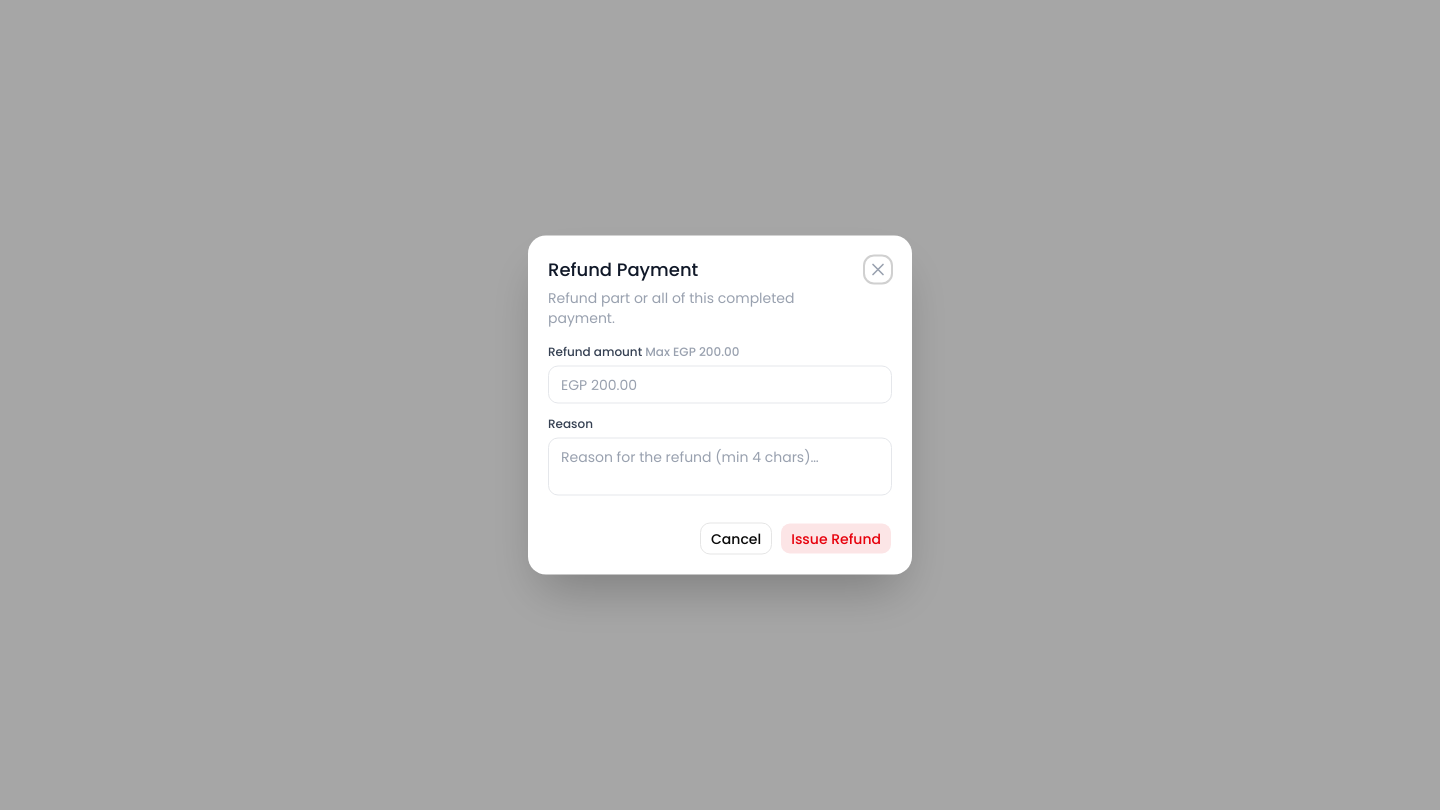
Test case: RefundDrawer › blocks submit and shows an error when the reason is too short
The width and height of the screenshot is (1440, 810).
In the text box with placeholder "Reason for the refund (min 4 chars)…": (720, 466) [548, 438, 892, 496], type "no"
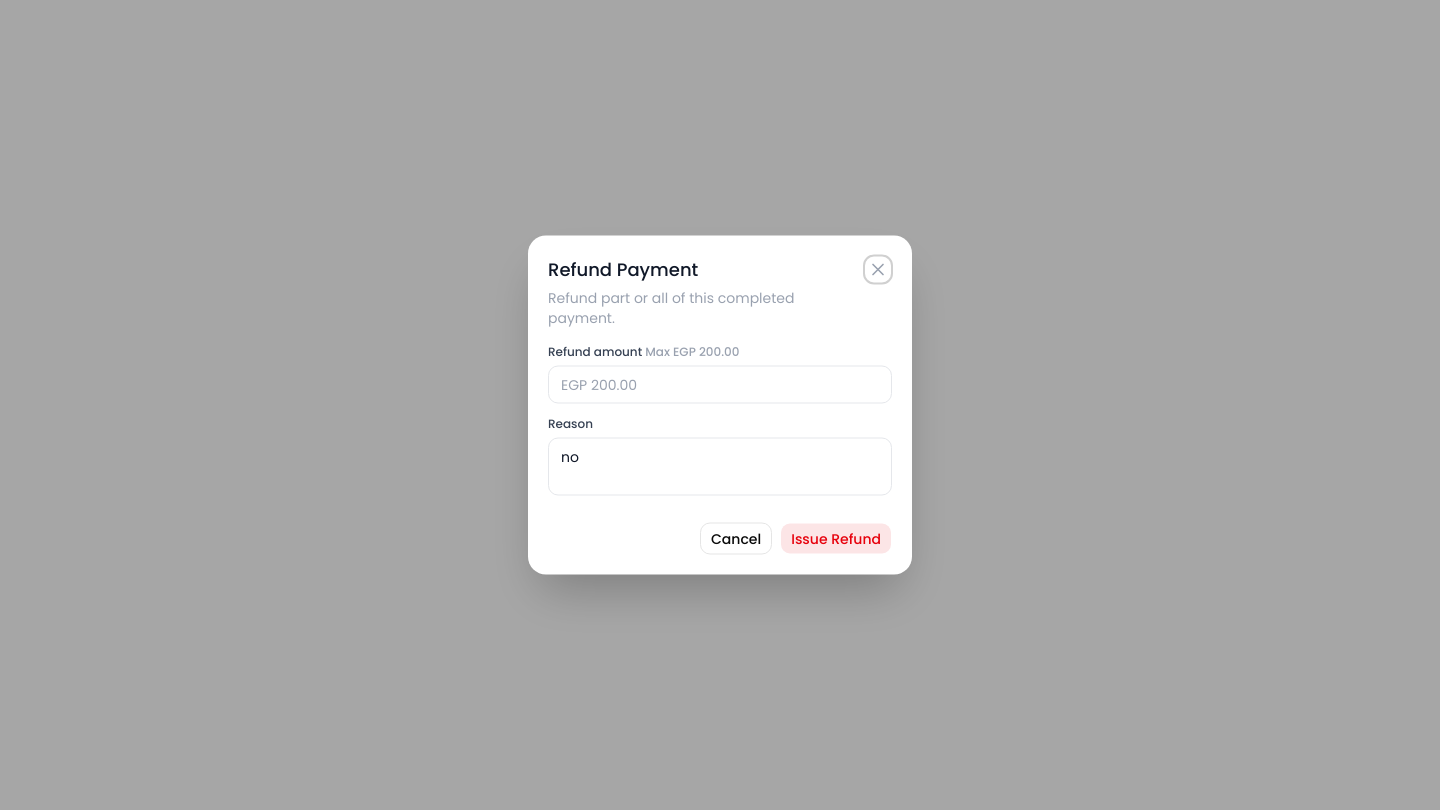
Click the button "Issue Refund": (836, 538) [780, 522, 892, 554]
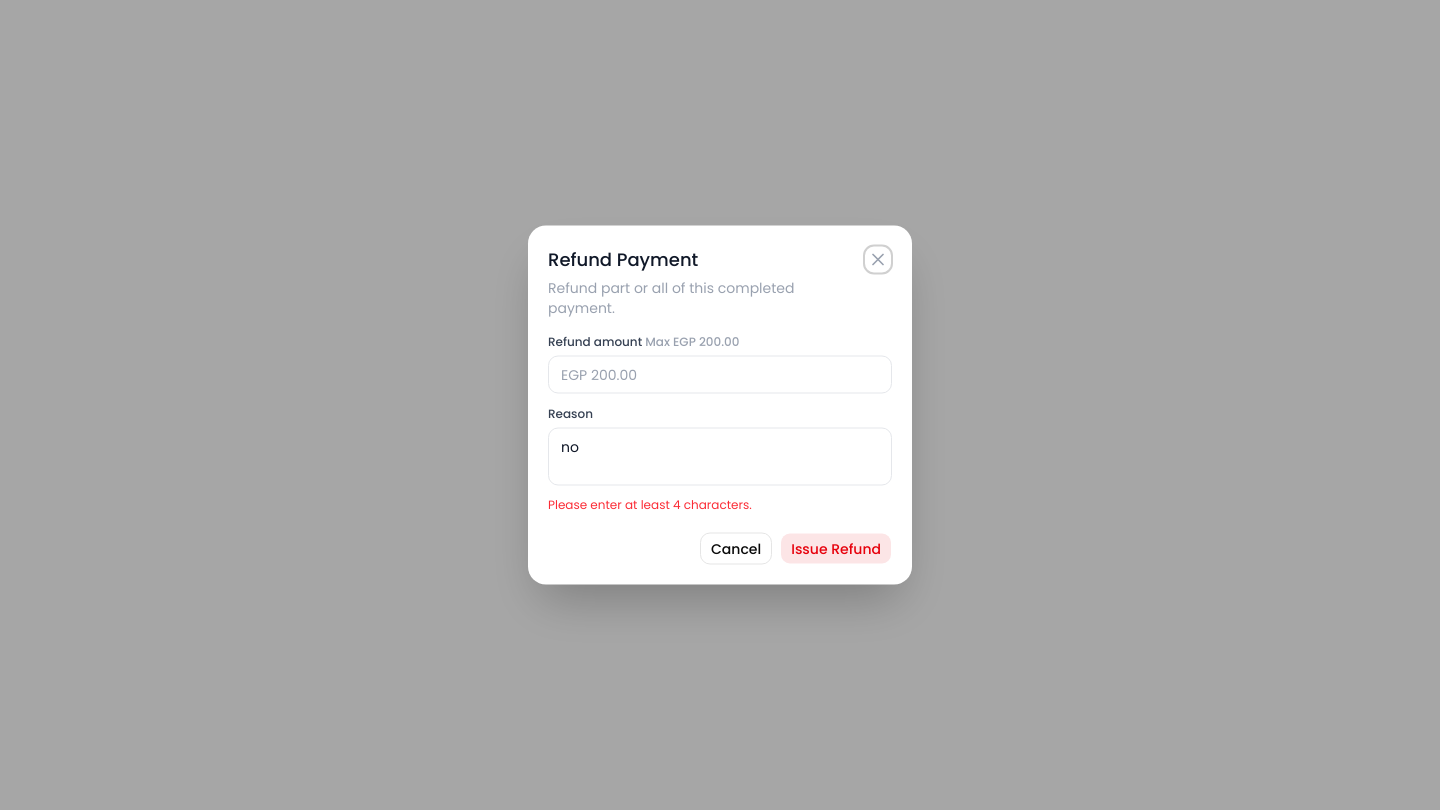
Check: the text "Please enter at least 4 characters." is shown, box [548, 496, 752, 512]
